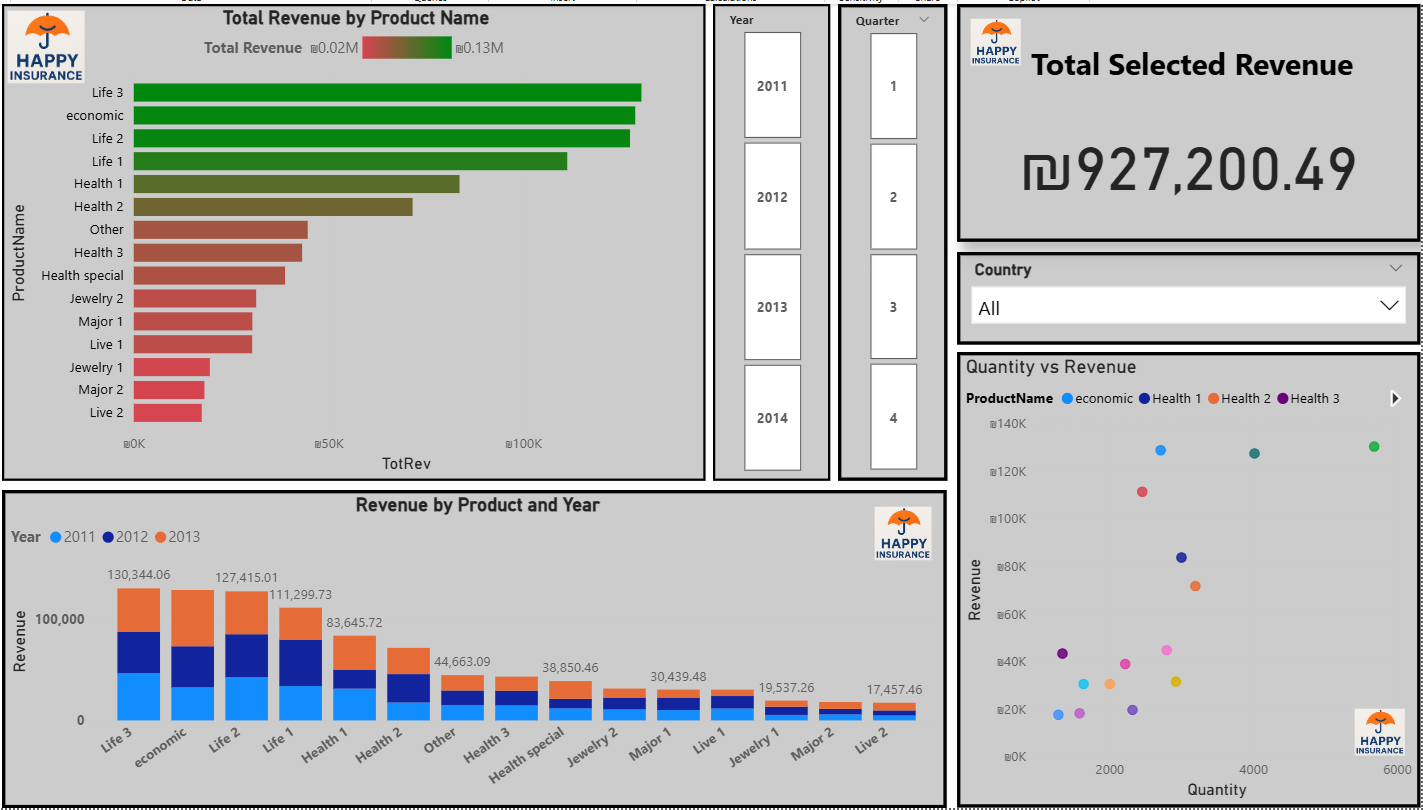

The page's visual inventory and layout, read from the dashboard file:
{"tool":"powerbi","page":{"name":"Revenue by Product","canvas":[1280,720],"ordinal":0},"visuals":[{"type":"barChart","title":"Total Revenue by Product Name","fields":{"Category":["Products.ProductName"],"Y":["Sales.TotRev"]},"box":[9.7,0,630.3,427],"z":0},{"type":"slicer","fields":{"Values":["Date.Year"]},"box":[647,0,104.5,427],"z":1000},{"type":"slicer","fields":{"Values":["Date.Quarter"]},"box":[758.4,0,97.5,427],"z":2000},{"type":"slicer","fields":{"Values":["Customers.Country"]},"box":[864.9,222,415.1,82.6],"z":3000},{"type":"image","box":[9.7,0,78.8,77.8],"z":4000},{"type":"card","title":"  ","fields":{"Values":["Sales.Sum of Revenue"]},"box":[864.9,0,415.1,213],"z":5000},{"type":"image","box":[871.9,7,54.7,53.7],"z":6000},{"type":"columnChart","title":"Revenue by Product and Year","fields":{"Category":["Products.ProductName"],"Y":["Sales.Sum of Revenue"],"Series":["Date.Year"]},"box":[10,435,846,284.7],"z":7000},{"type":"image","box":[785.9,444.5,61.3,60.3],"z":8000},{"type":"scatterChart","title":"Quantity vs Revenue","fields":{"X":["Sales.Sum of RevenueQty"],"Y":["Sales.TotRev"],"Series":["Products.ProductName"]},"box":[864.9,311.5,415.1,408.1],"z":9000},{"type":"image","box":[1216.3,625.1,54.7,53.7],"z":10000}]}

Visuals, with their boxes in screenshot pixels (x1, y1, x2, y2), scaled from the page's 1280x720 canvas onto the 1423x810 screenshot:
"Total Revenue by Product Name" barChart: 11:0:712:480
slicer - Date.Year: 719:0:835:480
slicer - Date.Quarter: 843:0:952:480
slicer - Customers.Country: 962:250:1422:343
image: 11:0:98:88
"  " card: 962:0:1422:240
image: 969:8:1030:68
"Revenue by Product and Year" columnChart: 11:489:952:809
image: 874:500:942:568
"Quantity vs Revenue" scatterChart: 962:350:1422:809
image: 1352:703:1413:764
